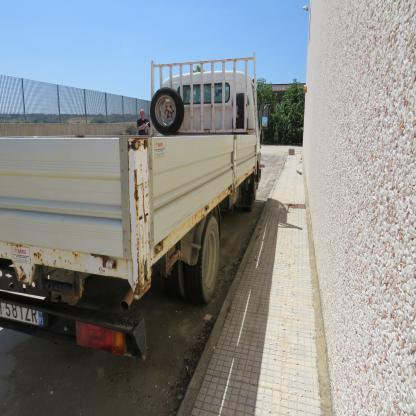truck: (1, 53, 262, 362)
